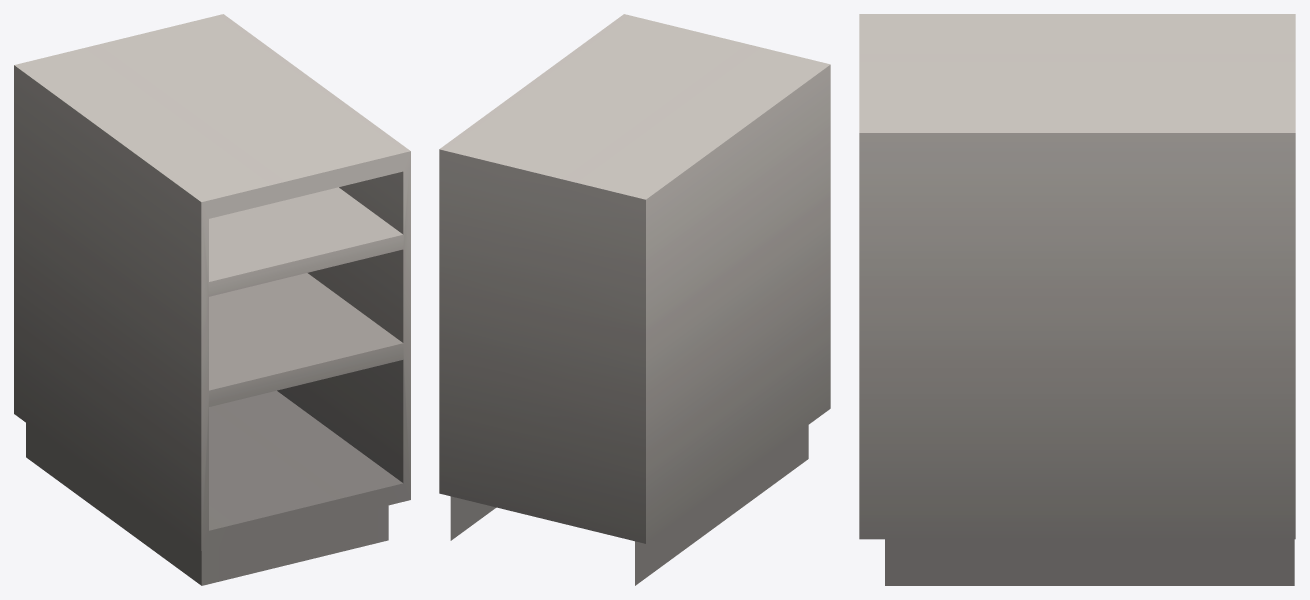
The model's file is Unit_50cm_open.fbx.
3 renders of one model, left to right at view 1: azimuth 30°, elevation 25°; view 2: azimuth 150°, elevation 25°; view 3: azimuth 270°, elevation 25°, orthographic. The views are drawn at different scales.
Visible parts, largest first — view 1: Unit_50cm_open; view 2: Unit_50cm_open; view 3: Unit_50cm_open.
Boxes of the visible parts, x1,y1,x2,y2 form: Unit_50cm_open: (14, 14, 410, 585); Unit_50cm_open: (439, 14, 830, 585); Unit_50cm_open: (859, 14, 1295, 585).
Size of the model in its own units: 50 by 90 by 77.48.
